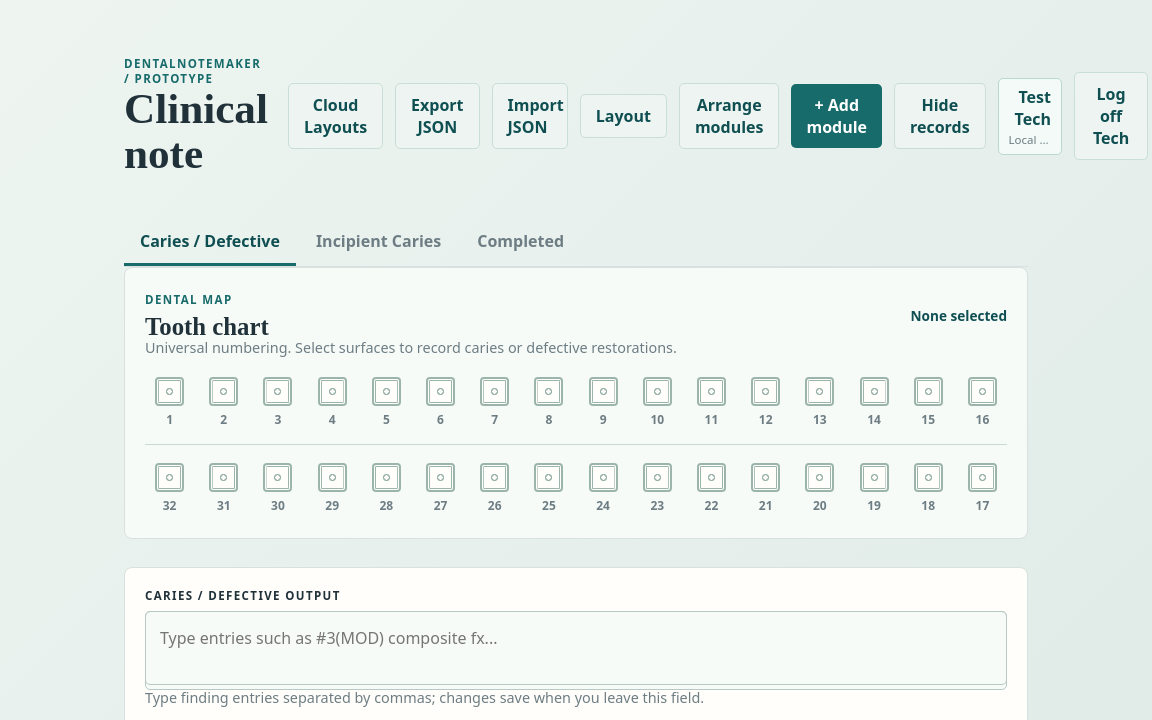
right-clicking note text still opens the tooth class editor
Type "#8(MIF) cavitation" into the text box with id "tooth-summary-output" at (576, 648), box [145,611,1007,685]
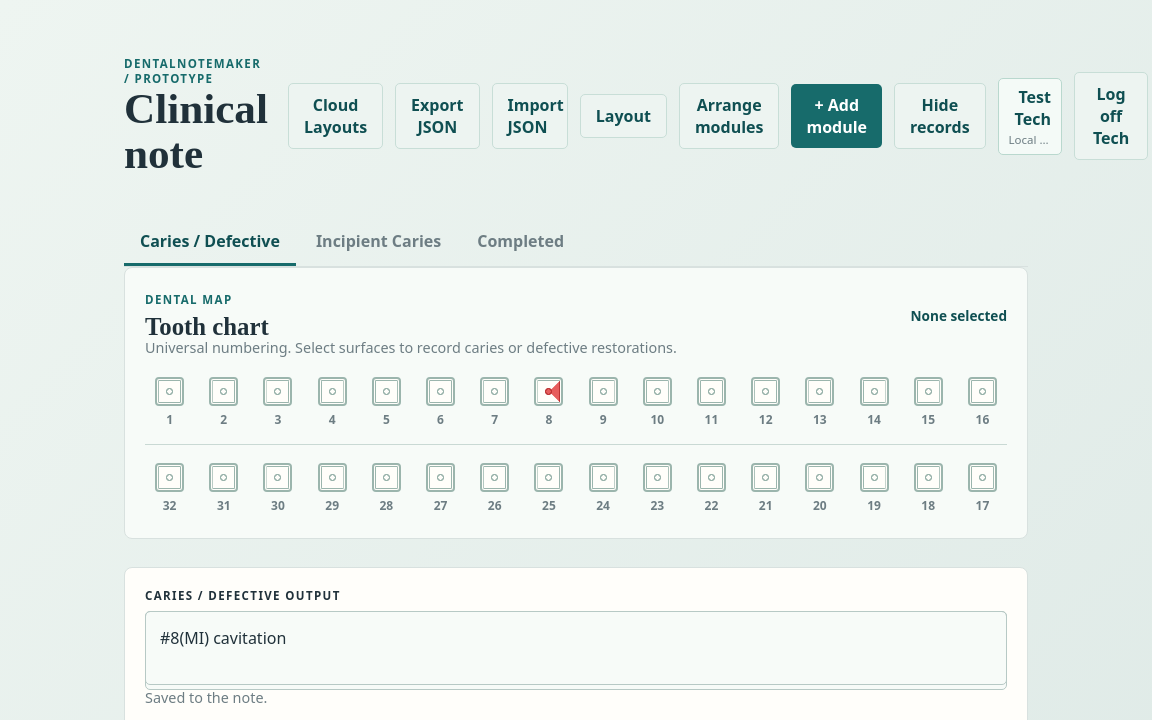
Right-click the text box with id "tooth-summary-output" at (576, 648), box [145,611,1007,685]
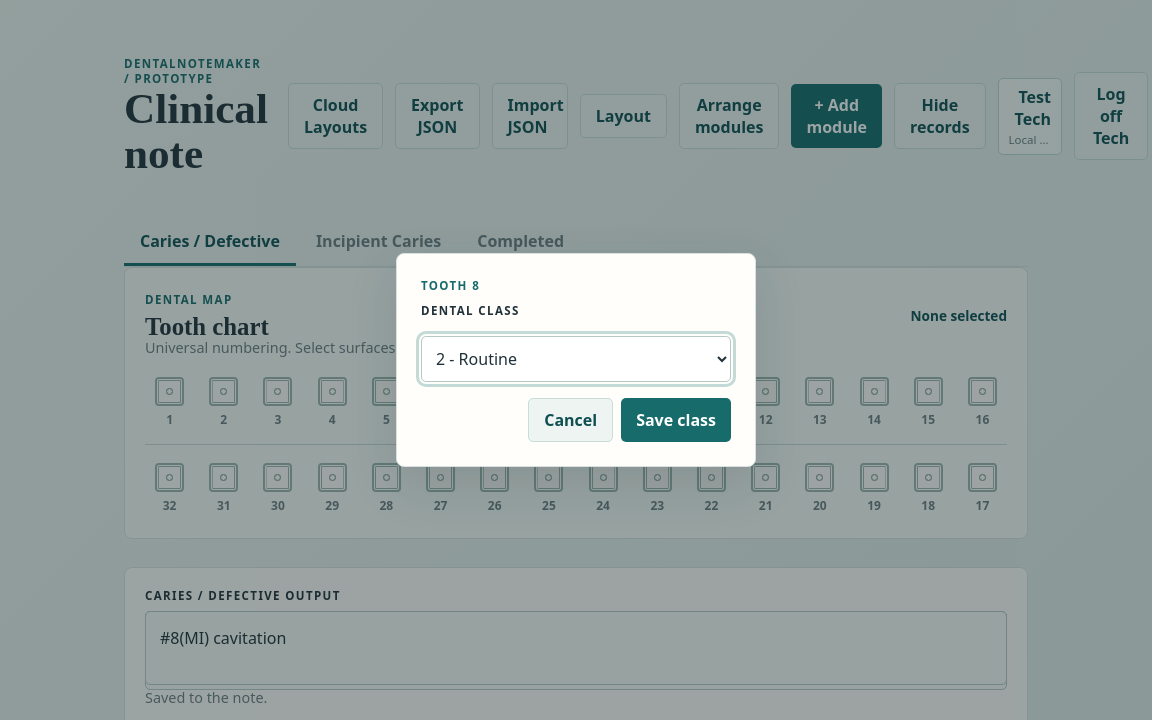
Result: the dialog named "class for tooth 8" is shown at [396,253,756,467]
